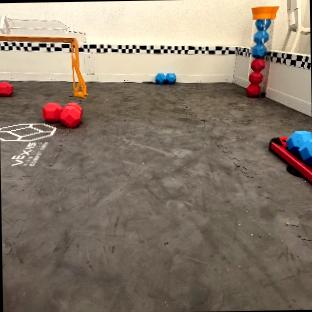V5_BLUE: (284, 130, 312, 165), (252, 19, 268, 54), (156, 73, 176, 82)
V5_RED: (42, 102, 82, 127), (246, 57, 264, 96), (0, 81, 12, 96)
